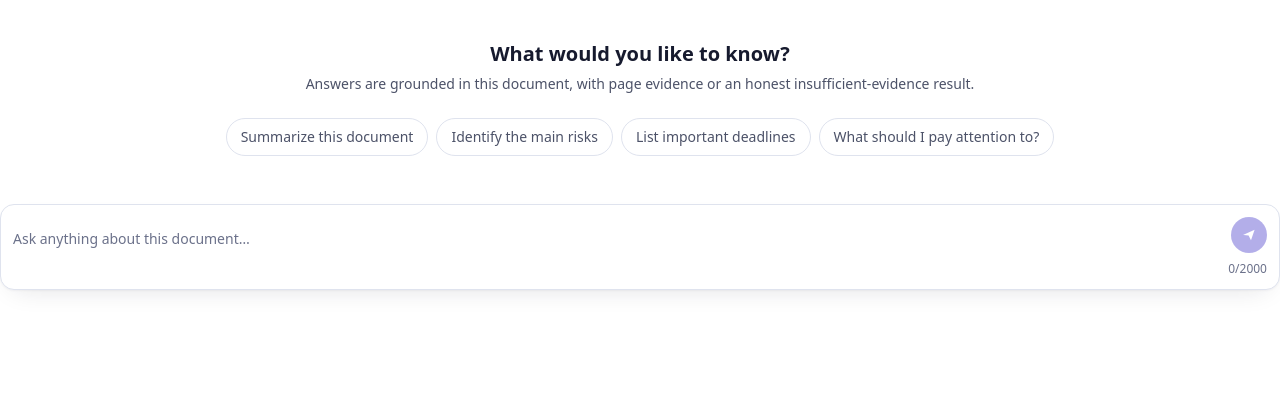
Test: AskDocuLens › submits on Enter and inserts a newline on Shift+Enter
In the text box labelled "Ask anything about this document": (618, 239) x1=13 y1=225 x2=1223 y2=253, type "Line one"
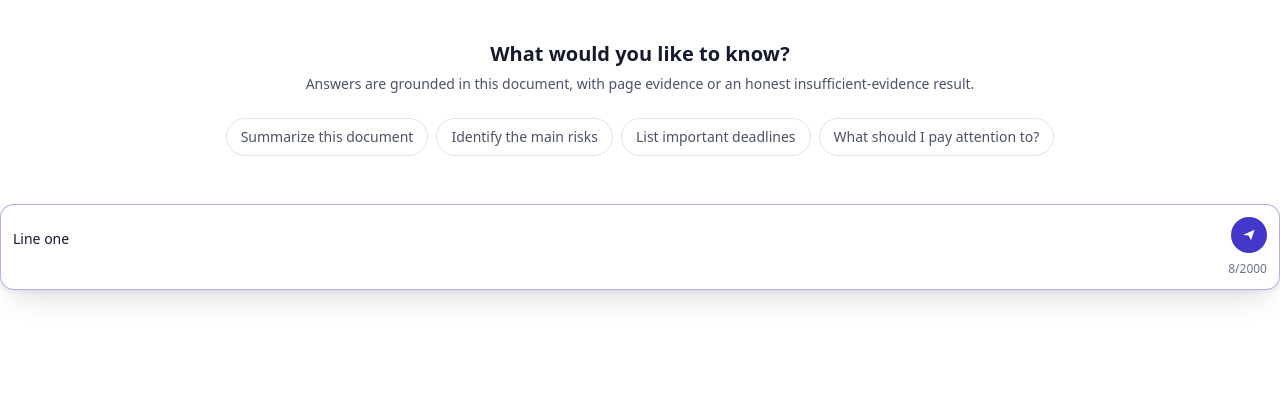
Type keys "{Shift>}{Enter}{/Shift}"
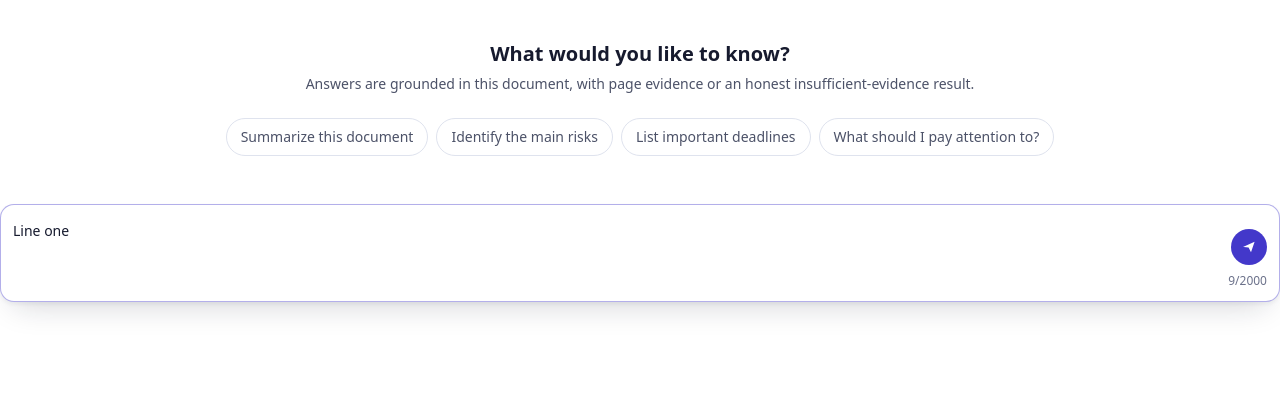
In the text box named "Ask anything about this document": (618, 241) x1=13 y1=217 x2=1223 y2=265, type "Line two"
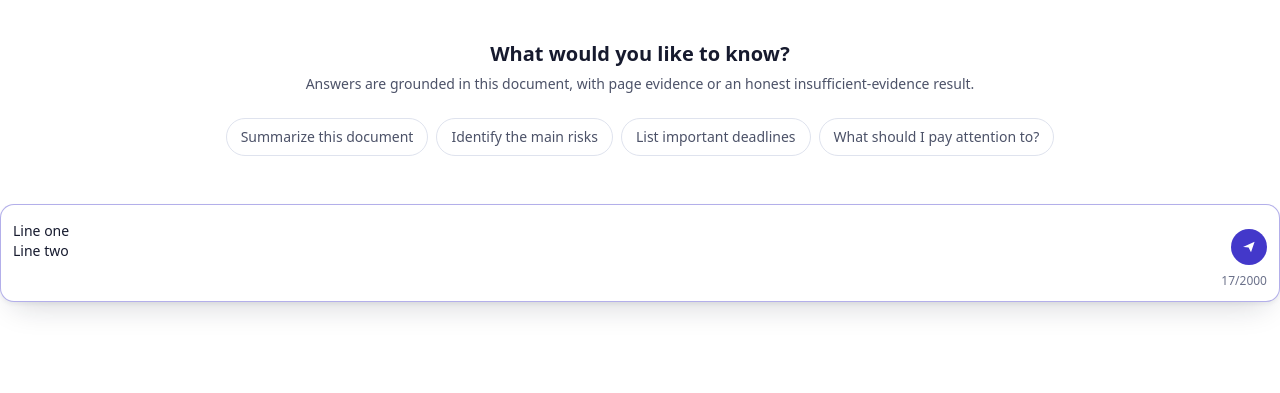
Press Enter
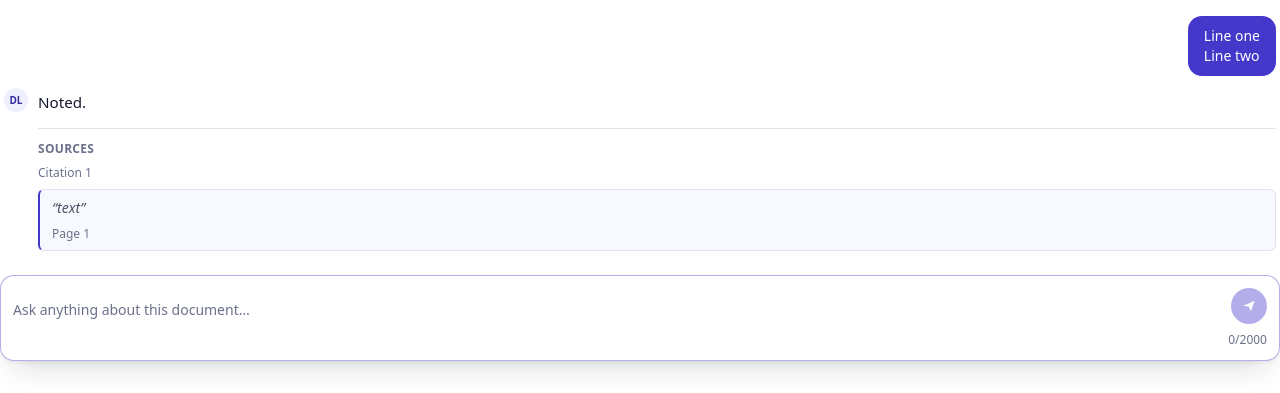
Expected: the text "Noted." is shown, x1=38 y1=92 x2=86 y2=112
